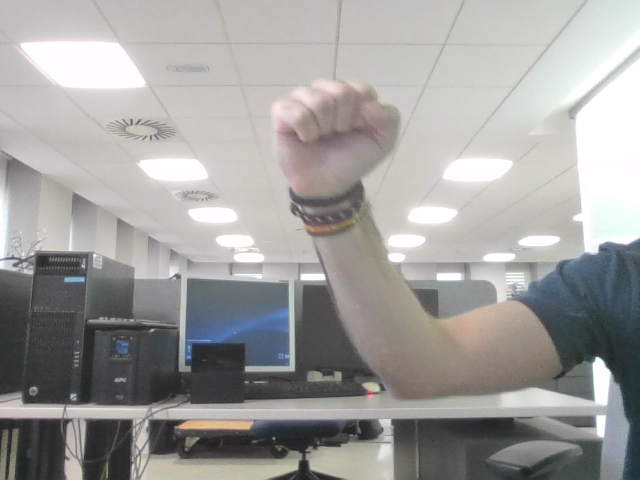Puño: (286, 91, 386, 169)
